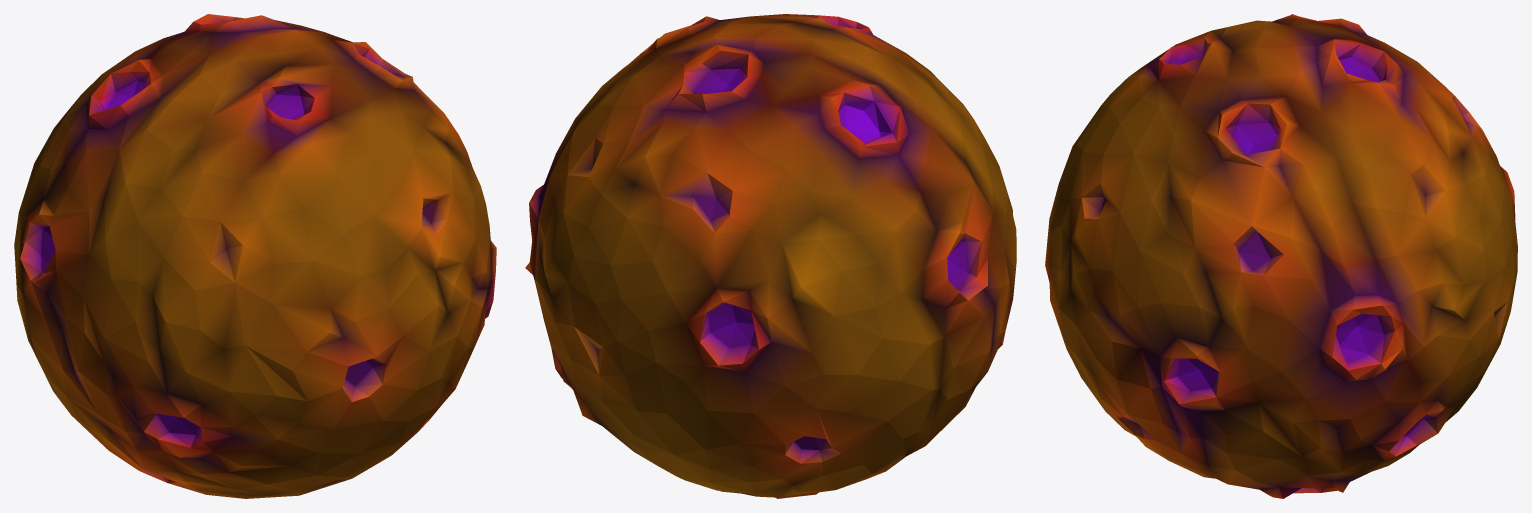
The model's file is moon26.fbx.
The picture shows the model from 3 angles, left to right: view 1: azimuth 30°, elevation 25°; view 2: azimuth 150°, elevation 25°; view 3: azimuth 270°, elevation 25°; orthographic projection. The views are drawn at different scales.
Visible parts, largest first — view 1: attribblur1; view 2: attribblur1; view 3: attribblur1.
Boxes of the visible parts, box(x1,y1,x2,y2) form: attribblur1: box(14, 14, 496, 498); attribblur1: box(525, 14, 1016, 498); attribblur1: box(1045, 14, 1517, 498).
Size of the model in its own units: 0.9629 by 0.949 by 0.9407.
